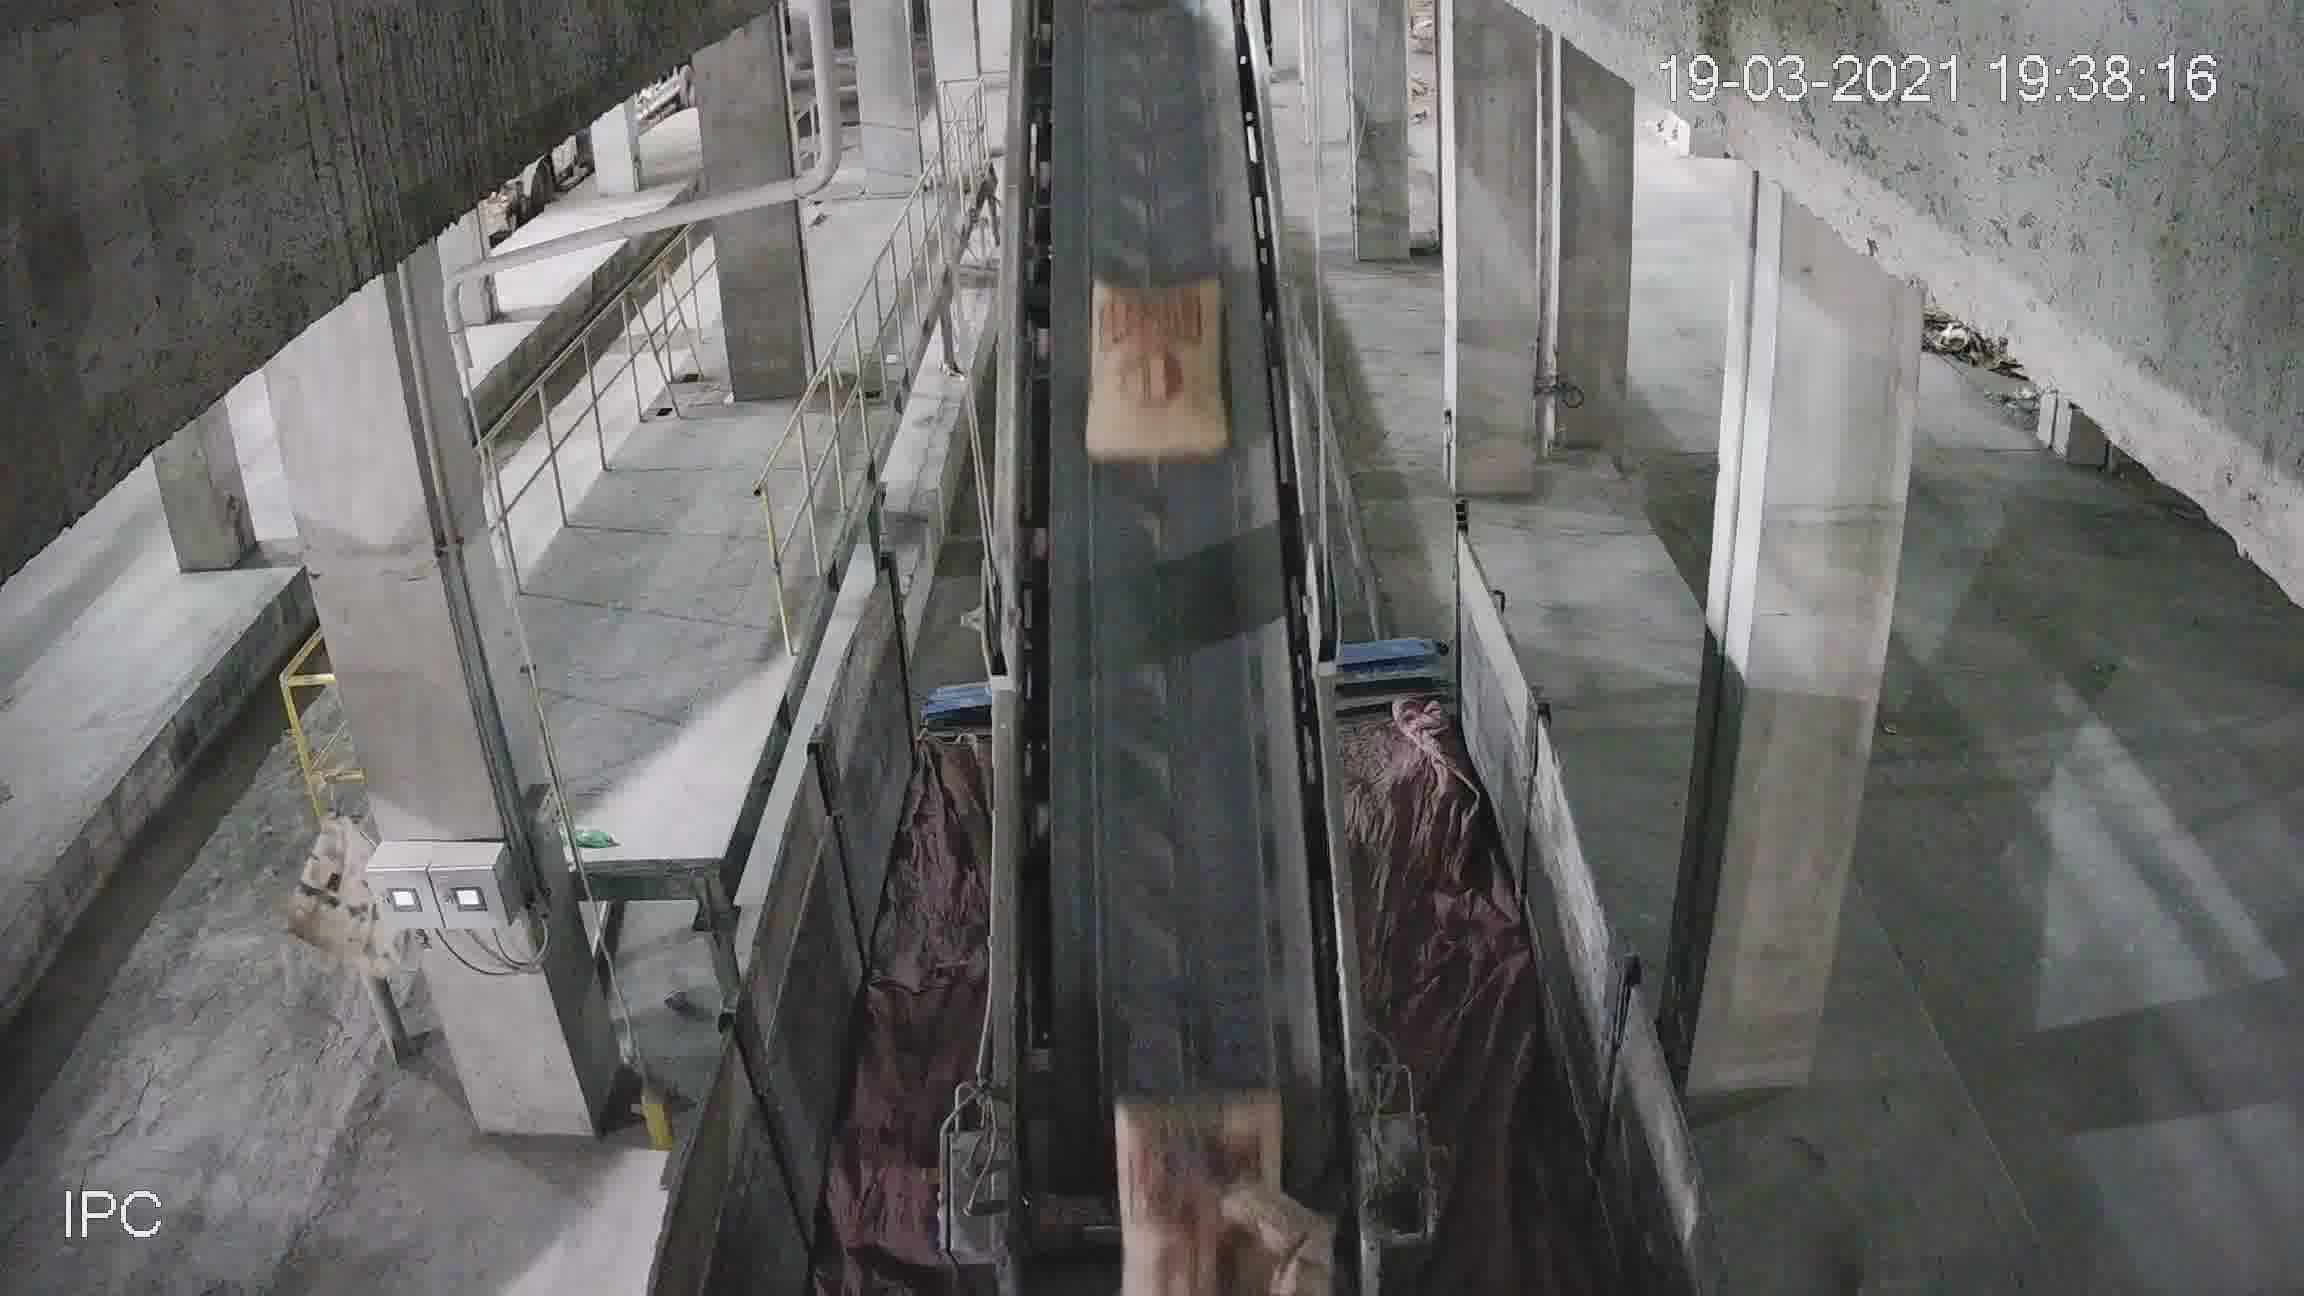bag: (1116, 1081, 1283, 1274), (1087, 290, 1228, 460)
belt: (984, 59, 1383, 1225)
